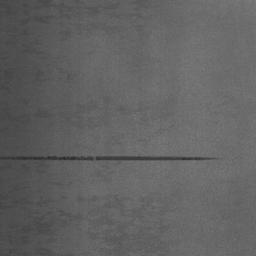Crease: (0, 156, 217, 161)
